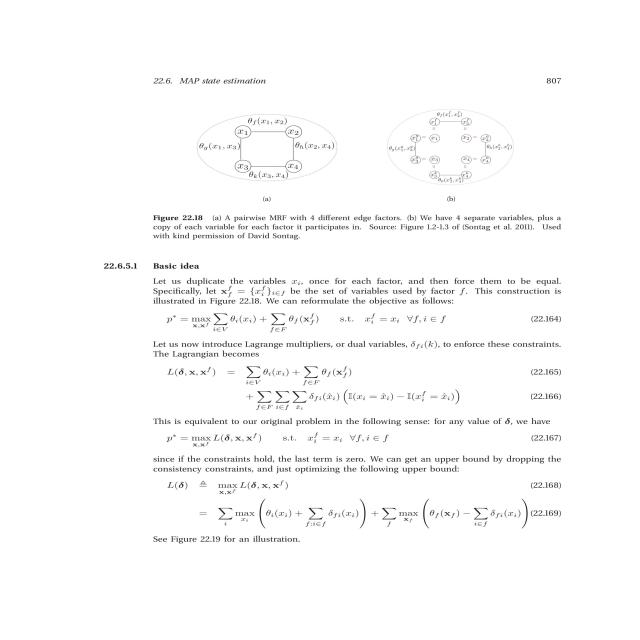diagram: (129, 93, 600, 252)
